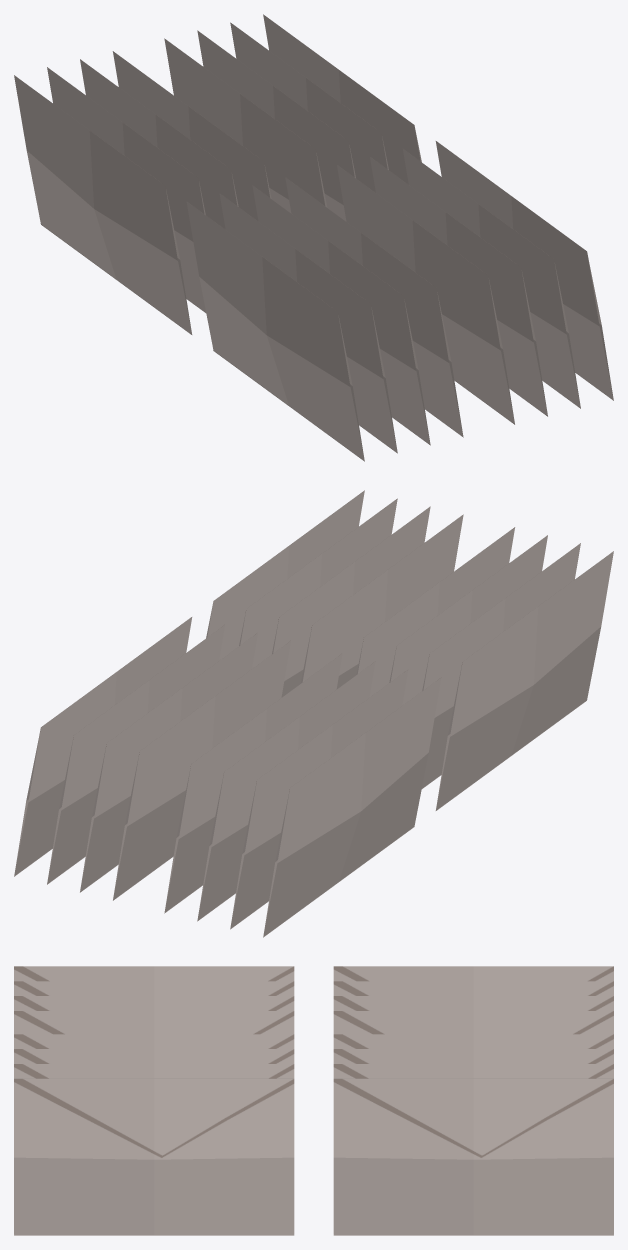
File: Envelopes.fbx
The picture shows the model from 3 angles, top to bottom: view 1: azimuth 30°, elevation 25°; view 2: azimuth 150°, elevation 25°; view 3: azimuth 270°, elevation 25°; orthographic projection. The views are drawn at different scales.
Parts seen in each view (by area): view 1: Envelope.002; view 2: Envelope.002; view 3: Envelope.002.
Part boxes in pixels (x1,y1,x2,y2): Envelope.002: [14, 14, 613, 461]; Envelope.002: [14, 490, 613, 937]; Envelope.002: [14, 966, 613, 1235].
Bounding box in the file's own units: 241 × 130 × 490.
Materials: 1 (1 with a texture image).
